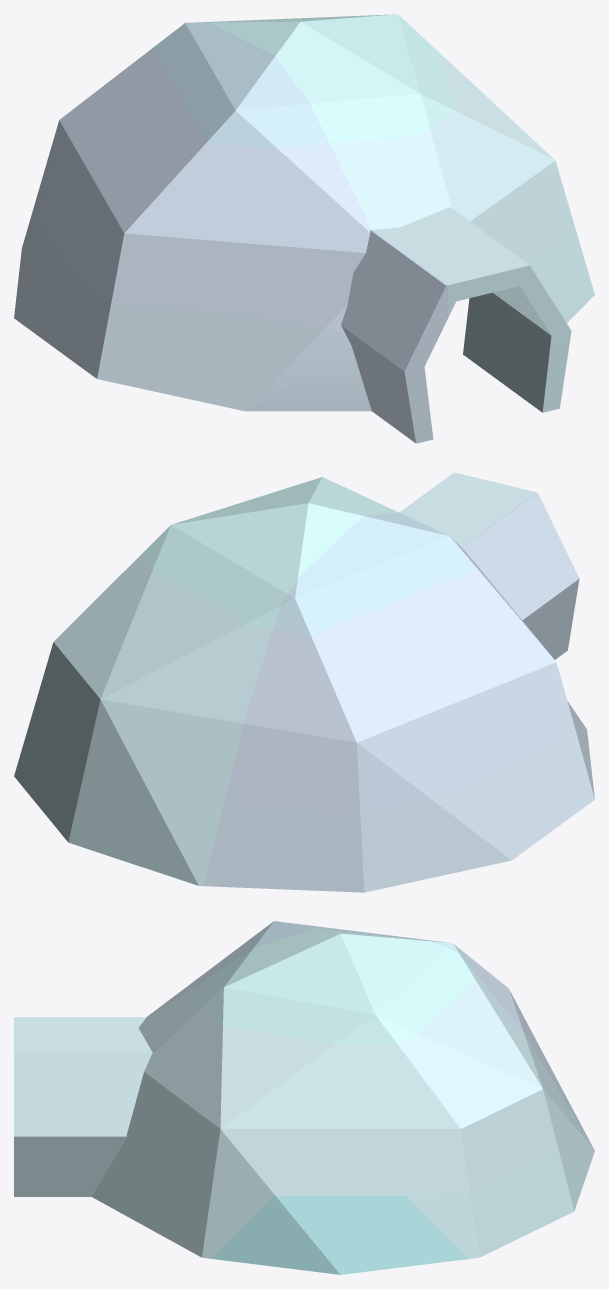
File: SS_Igloo.fbx
3 views of the same model, one above another, from view 1: azimuth 30°, elevation 25°; view 2: azimuth 150°, elevation 25°; view 3: azimuth 270°, elevation 25° (orthographic). The views are drawn at different scales.
Visible parts, largest first — view 1: Igloo; view 2: Igloo; view 3: Igloo.
Boxes of the visible parts, x1,y1,x2,y2 form: Igloo: (14,14,594,443); Igloo: (14,472,594,892); Igloo: (14,921,594,1274).
Size of the model in its own units: 4.85 by 2.5 by 5.6.
